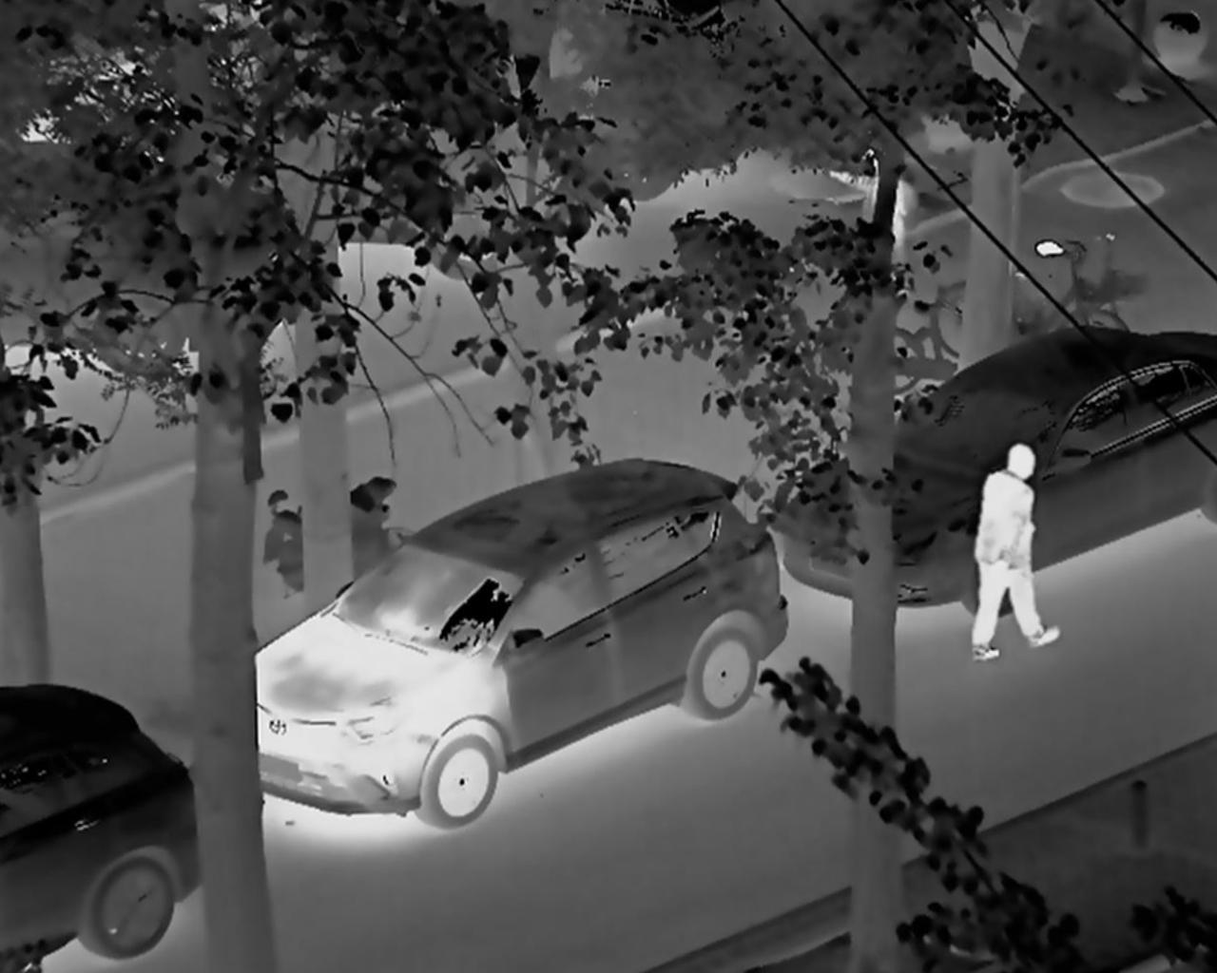person: (947, 431, 1076, 695)
